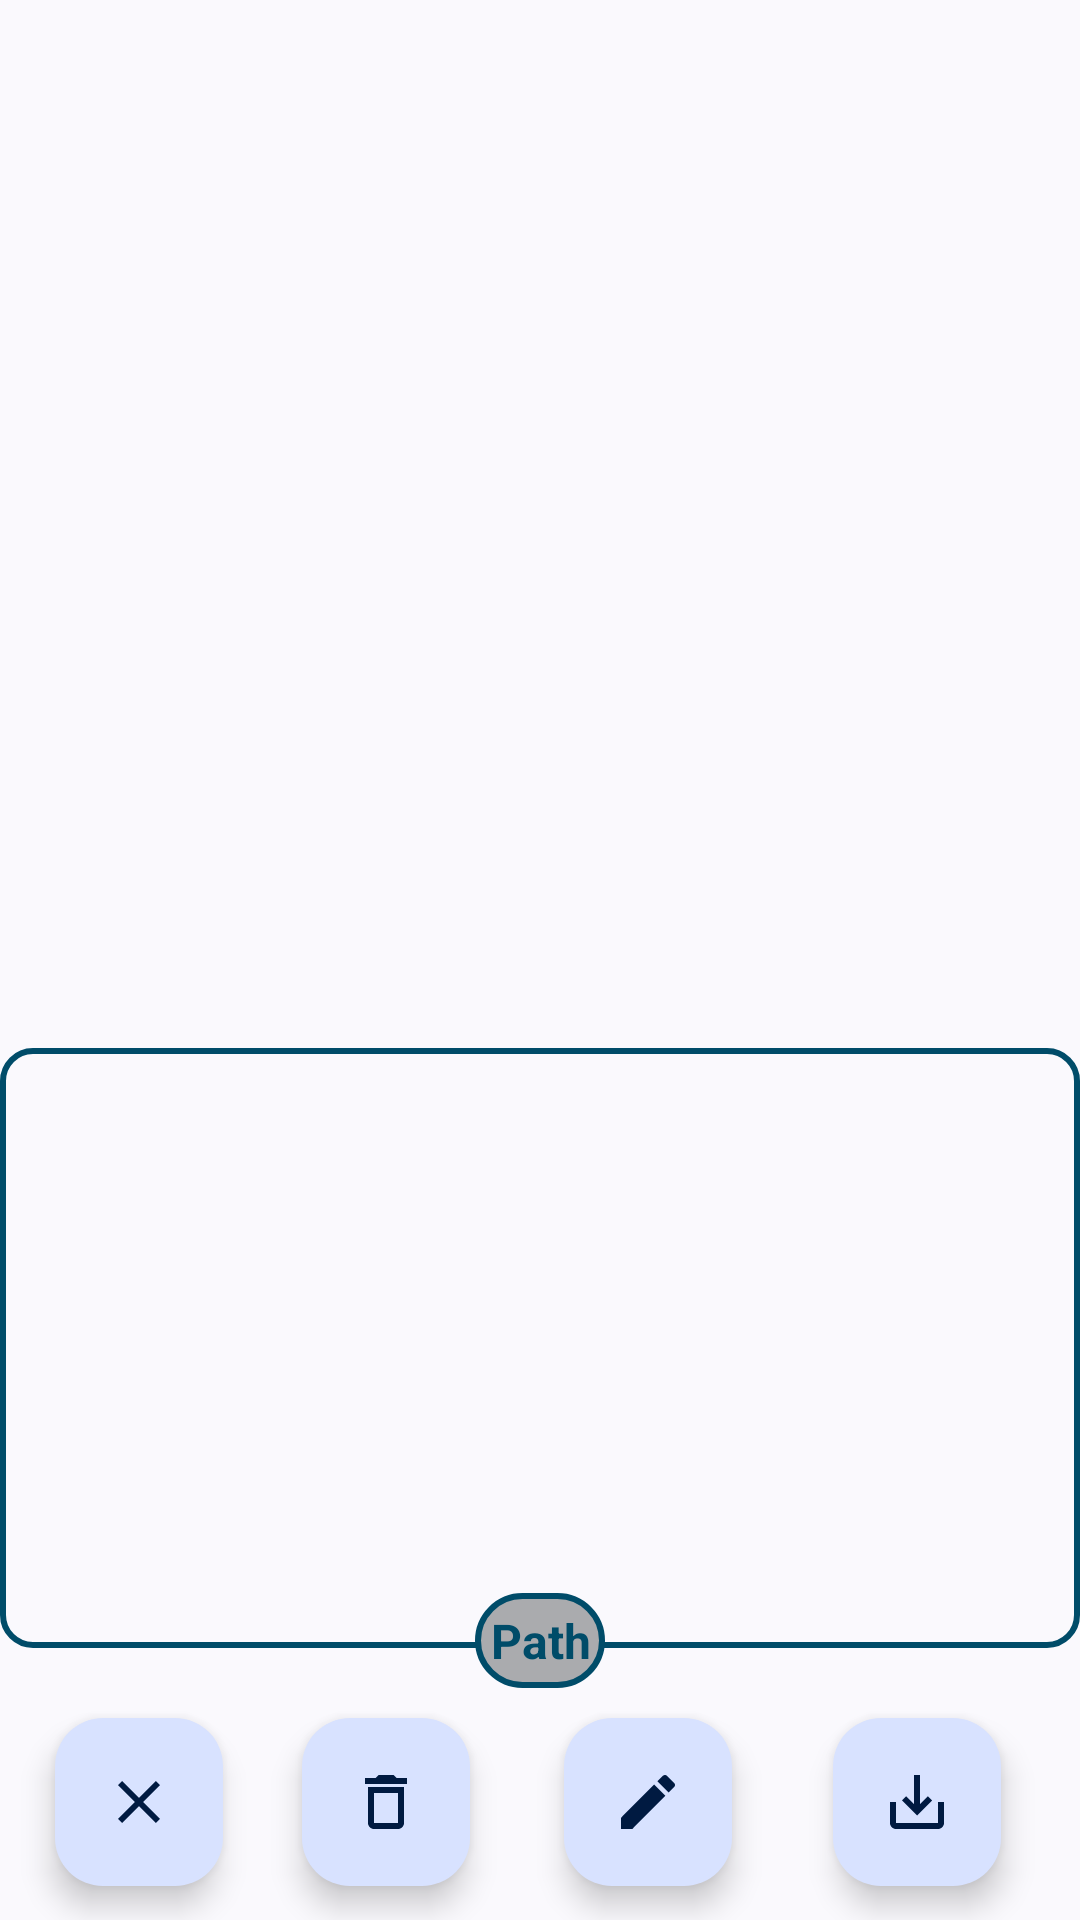

Locate icon controls on the screen. Image size 1080px x 1920px, boxes as BBox(x1, y1, x2, y2).
close: BBox(55, 1718, 223, 1886)
delete: BBox(302, 1718, 470, 1886)
edit: BBox(564, 1718, 732, 1886)
save: BBox(833, 1718, 1001, 1886)
